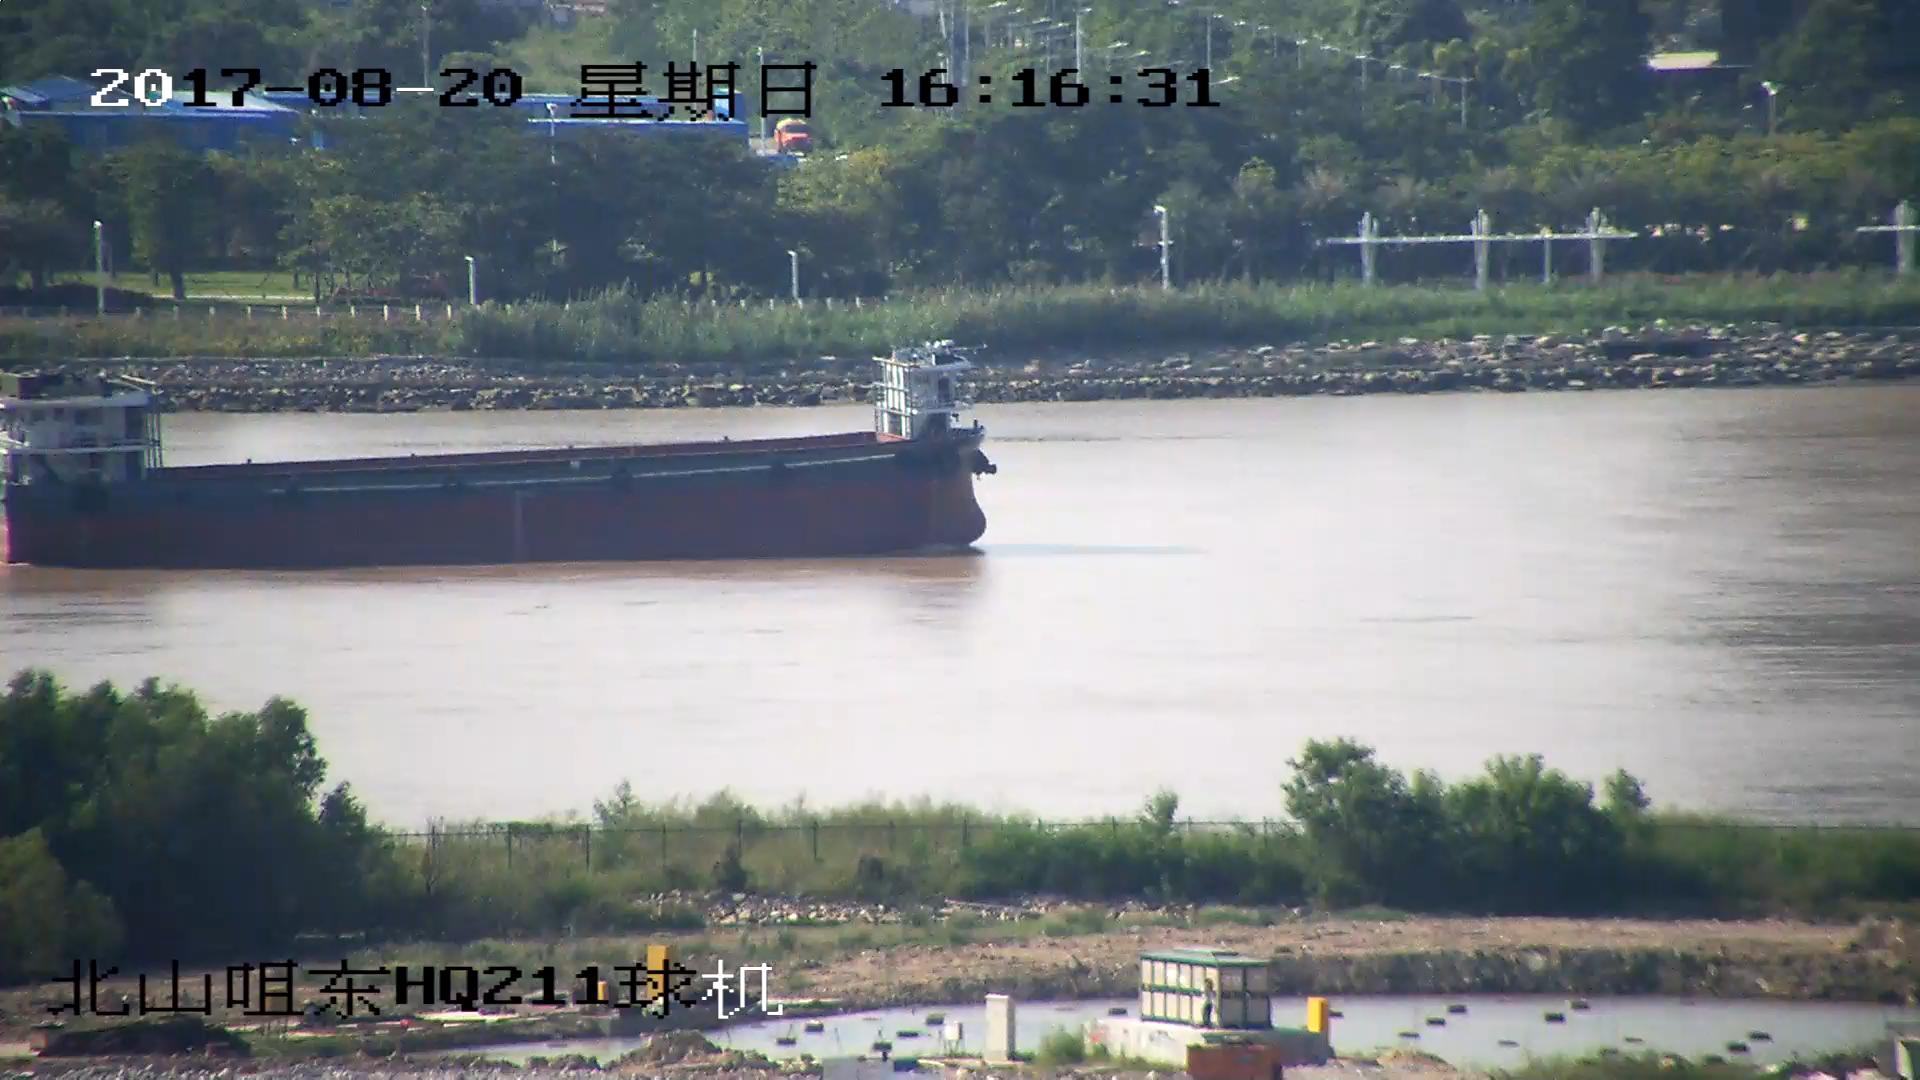general cargo ship: (1, 351, 999, 554)
